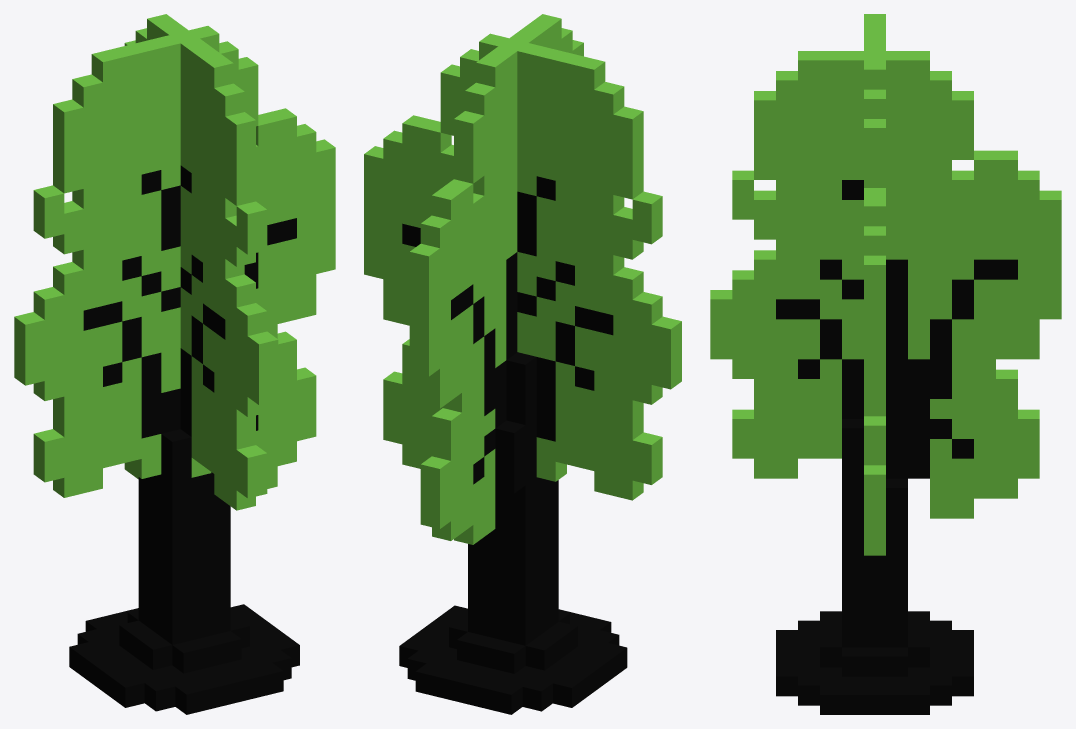
The model's file is tree01.obj.
The picture shows the model from 3 angles, left to right: view 1: azimuth 30°, elevation 25°; view 2: azimuth 150°, elevation 25°; view 3: azimuth 270°, elevation 25°; orthographic projection.
Size of the model in its own units: 1.6 by 3.1 by 1.6.
1 material, 1 textured.
